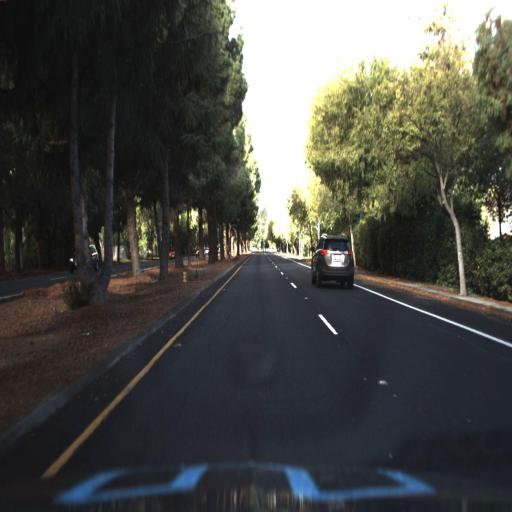car: (310, 234, 354, 289), (65, 242, 98, 273)
